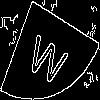W: (24, 24, 73, 88)
